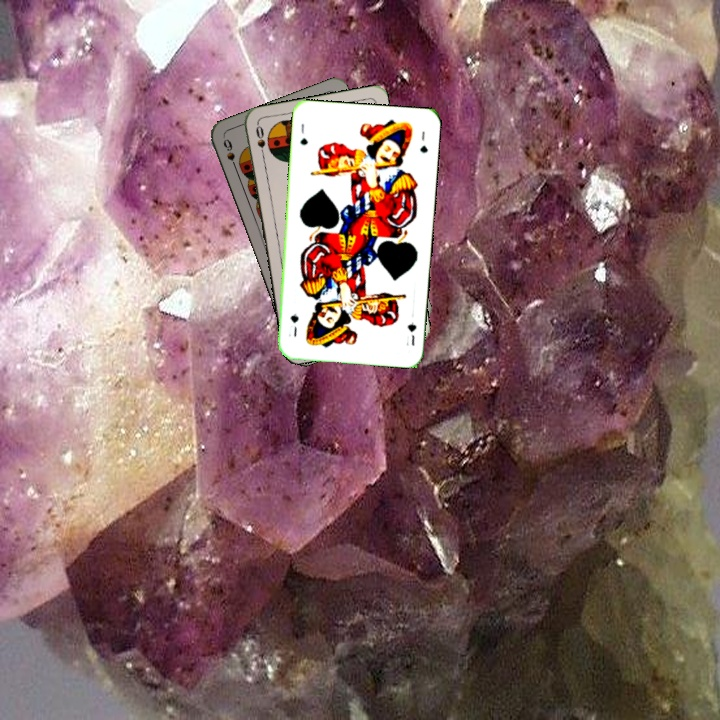GU: (402, 318, 419, 348), (296, 120, 310, 148)
S9: (219, 135, 240, 174)
SO: (252, 121, 268, 162)
